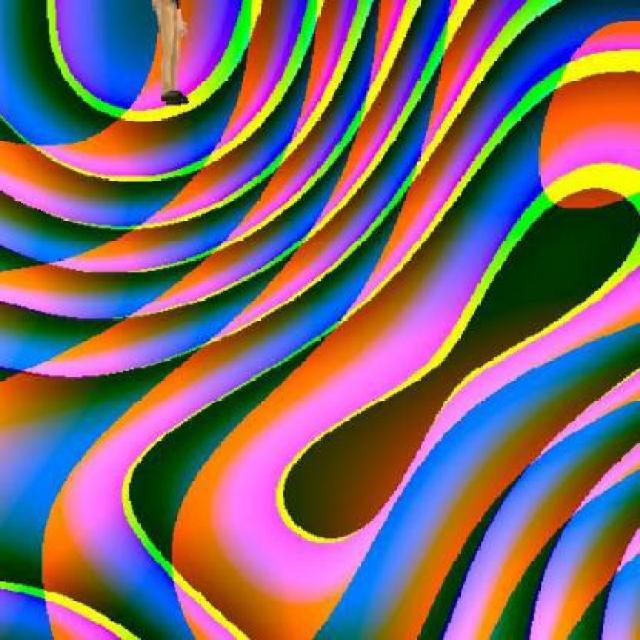Person: (144, 0, 193, 111)
